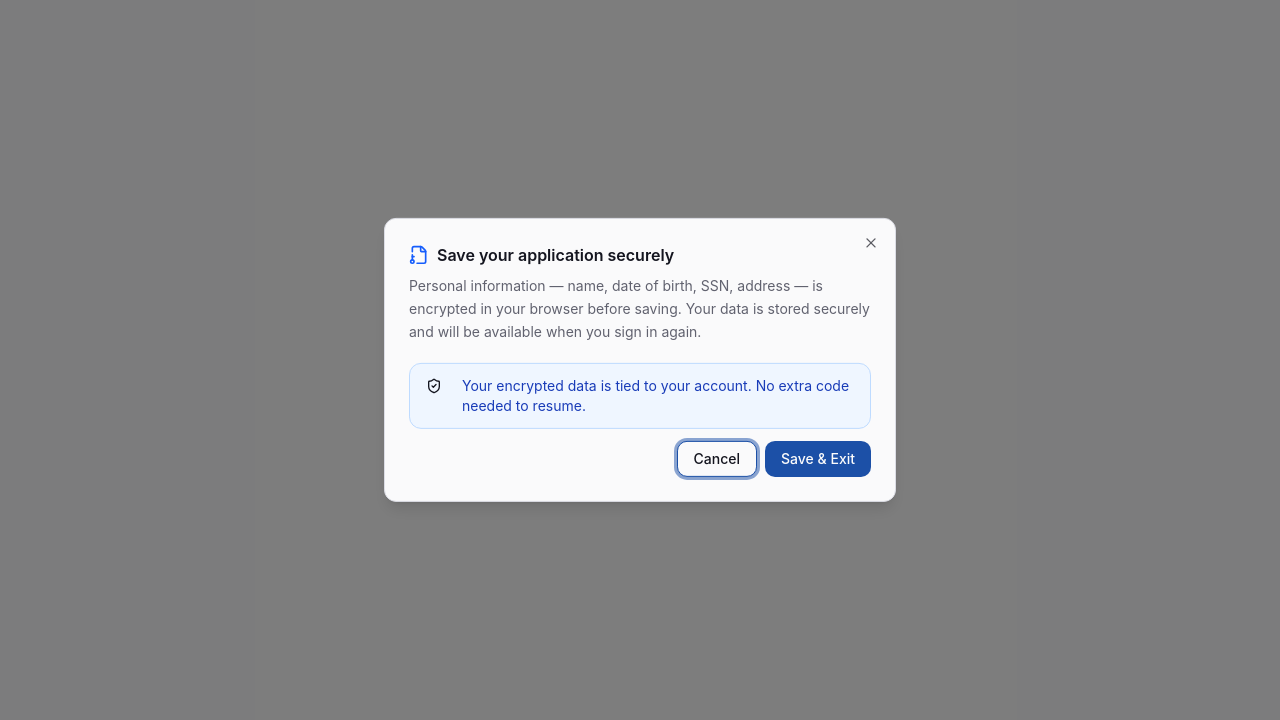
it: PhiSaveExitDialog › shows the warning from { ok: true, warning } in the done phase, above Exit, and still exits
Later steps or results of the test are not shown.
Click the button "Save & Exit".
click(818, 459)  # box [765, 441, 871, 477]
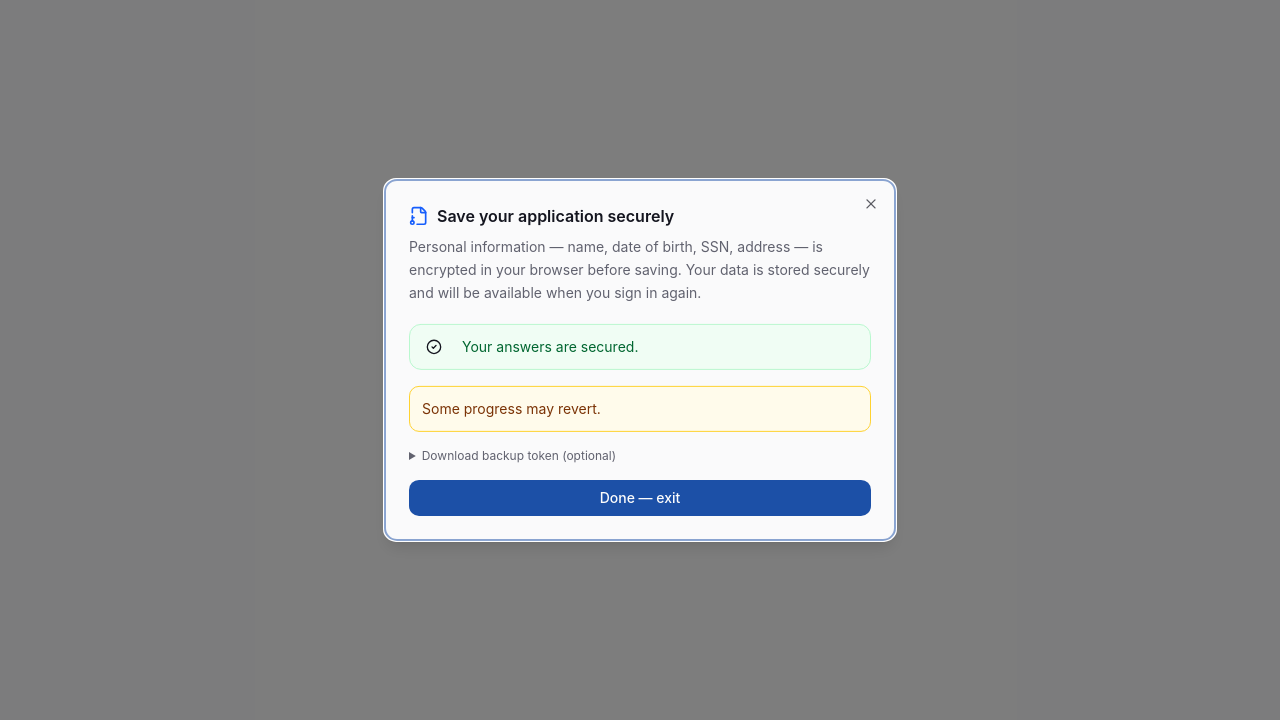
Now the text "Your answers are secured." is shown, box [462, 338, 638, 355]
